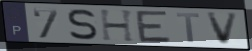7: (32, 6, 60, 40)
E: (134, 9, 174, 44)
H: (98, 9, 137, 43)
S: (66, 8, 99, 41)
T: (175, 11, 202, 44)
V: (205, 12, 241, 46)
